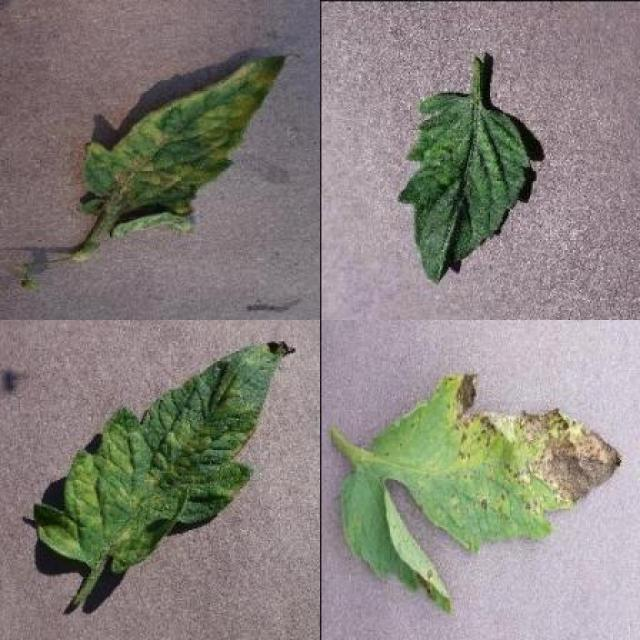Leaf Mold: (36, 339, 295, 571), (83, 50, 300, 240)
Mosaic Virus: (396, 90, 530, 283)
Septoria: (338, 375, 618, 614)
